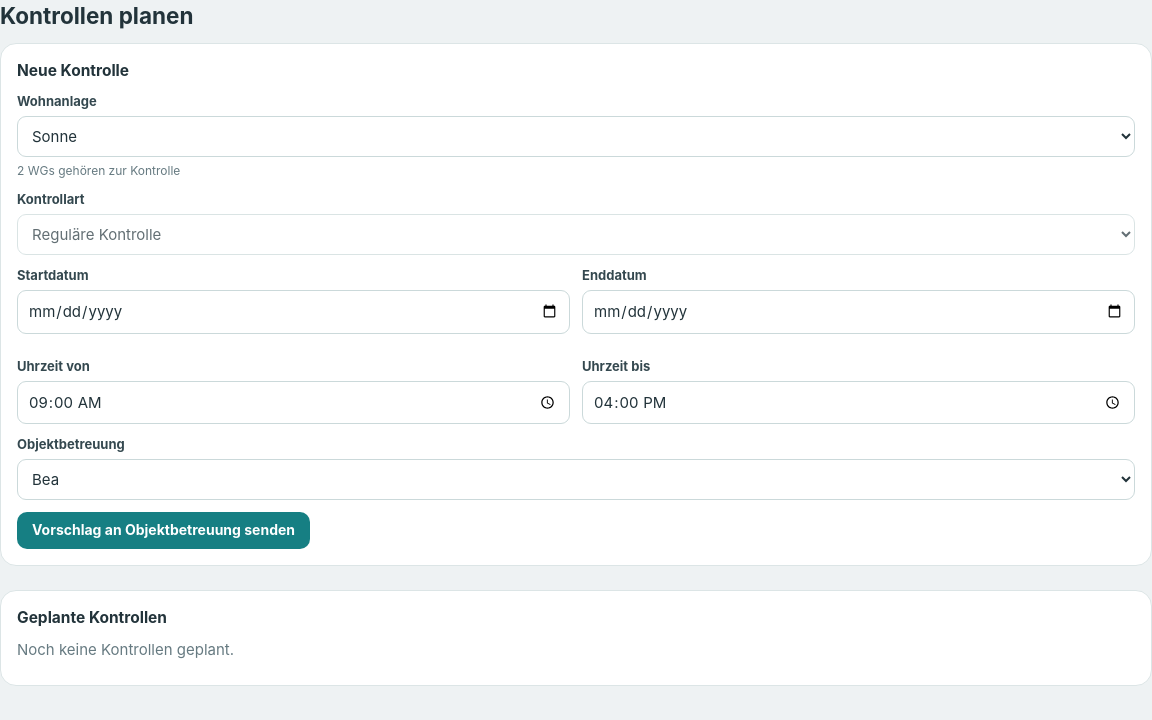
Scenario: follows the residence for caretaker, flat count and open-inspection hint
Select "Egg" in the dropdown labelled "Wohnanlage" at (576, 136), box [17,116,1135,157]
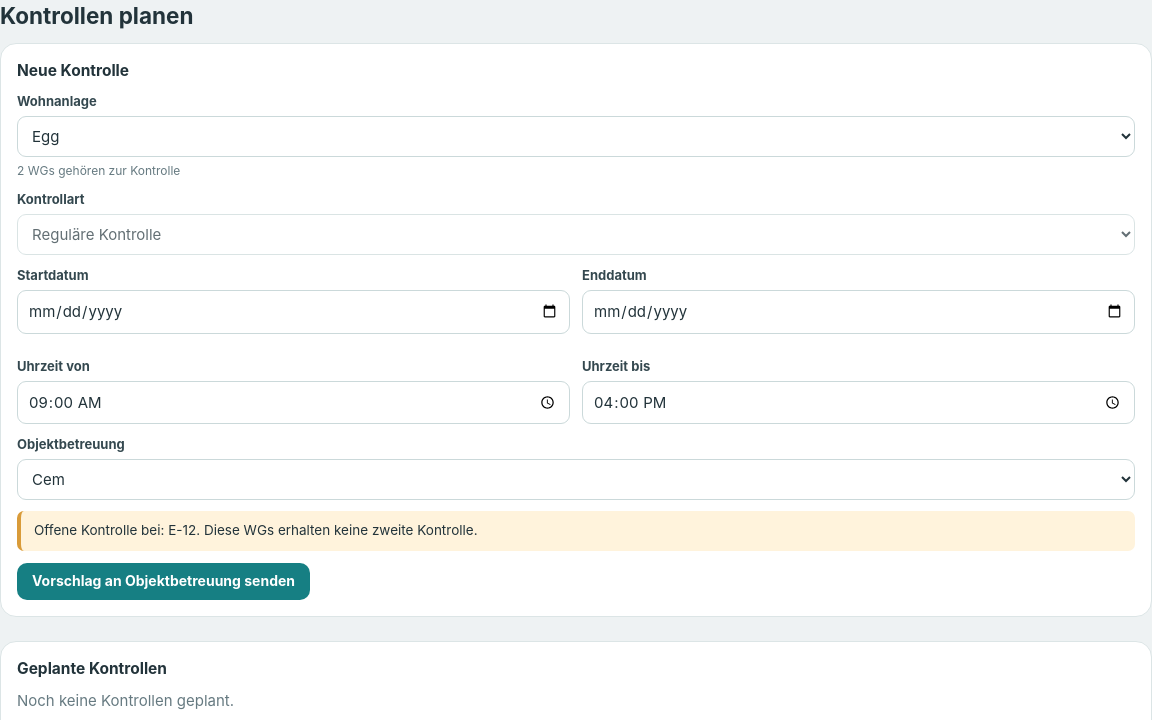
Expected: the button "Vorschlag an Objektbetreuung senden" is enabled, [17,563,310,600]
Result: the text "E-12" is shown at [34,522,478,538]
Result: the dropdown labelled "Objektbetreuung" shows "Cem" at [17,459,1135,500]
